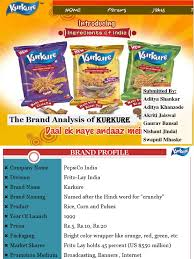kurkure: (133, 47, 170, 68), (76, 48, 116, 67), (4, 1, 40, 17), (22, 50, 57, 64)
plastic: (11, 38, 140, 111)
wrapper: (13, 43, 73, 105)
